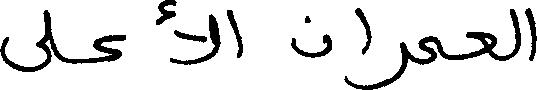X: (171, 0, 218, 69), (0, 5, 45, 76), (292, 11, 331, 62), (372, 37, 407, 89), (355, 3, 370, 89), (95, 30, 124, 67), (467, 27, 495, 64), (418, 31, 440, 69), (229, 5, 242, 62), (508, 4, 520, 64), (528, 3, 536, 65), (47, 5, 51, 69)
